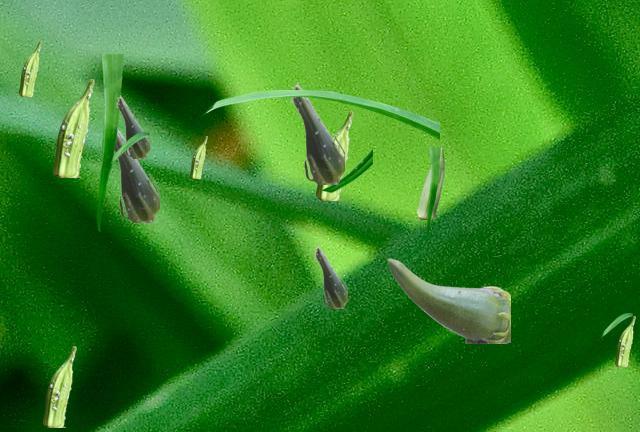okra: (387, 258, 509, 342), (290, 82, 343, 183), (115, 129, 158, 221), (53, 79, 93, 176), (316, 111, 352, 199), (43, 346, 75, 426), (116, 95, 148, 157), (314, 245, 346, 307), (417, 147, 443, 218), (19, 41, 40, 95), (615, 316, 634, 365), (190, 136, 206, 177)
